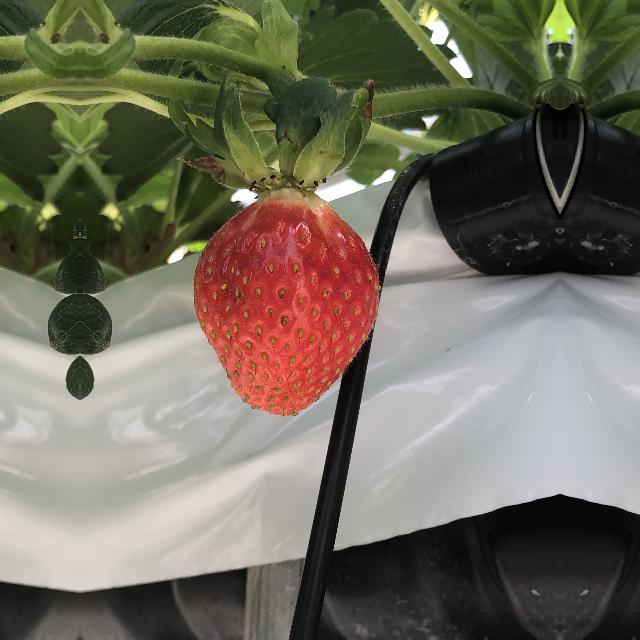Health_100: (188, 176, 386, 420)
